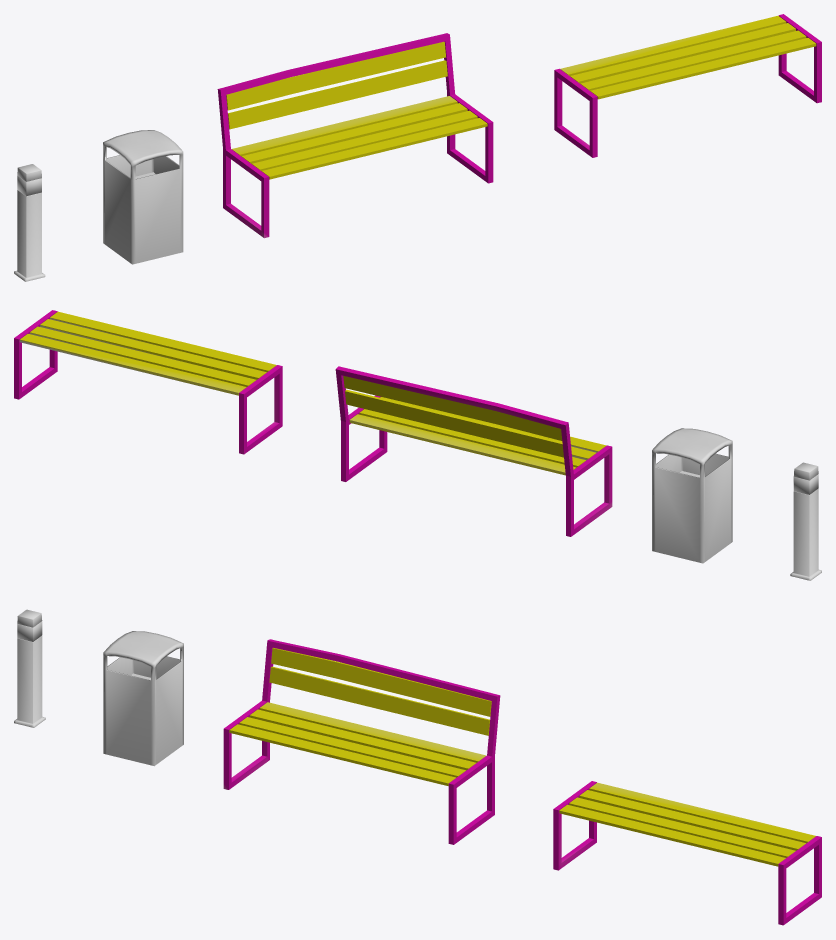
The model's file is props_ext.fbx.
The picture shows the model from 3 angles, top to bottom: view 1: azimuth 30°, elevation 25°; view 2: azimuth 150°, elevation 25°; view 3: azimuth 330°, elevation 25°; orthographic projection.
Visible parts, largest first — view 1: bench_1, trash, bench_2, bench_1_feets, bench_2_feets, lamp_ext; view 2: bench_1, trash, bench_2, bench_1_feets, bench_2_feets, lamp_ext; view 3: bench_1, trash, bench_2, bench_1_feets, bench_2_feets, lamp_ext.
Boxes of the visible parts, left/top/right/bottom form: bench_1: left=226, top=41, right=487, bottom=179; trash: left=103, top=130, right=183, bottom=264; bench_2: left=560, top=16, right=816, bottom=99; bench_1_feets: left=217, top=33, right=493, bottom=238; bench_2_feets: left=554, top=14, right=821, bottom=157; lamp_ext: left=14, top=164, right=45, bottom=281; bench_1: left=343, top=376, right=606, bottom=475; trash: left=652, top=428, right=732, bottom=563; bench_2: left=19, top=311, right=276, bottom=395; bench_1_feets: left=335, top=366, right=612, bottom=536; bench_2_feets: left=14, top=310, right=282, bottom=454; lamp_ext: left=790, top=462, right=821, bottom=580; bench_1: left=229, top=648, right=491, bottom=785; trash: left=103, top=631, right=183, bottom=766; bench_2: left=559, top=782, right=815, bottom=866; bench_1_feets: left=223, top=639, right=500, bottom=844; bench_2_feets: left=553, top=781, right=821, bottom=925; lamp_ext: left=14, top=609, right=45, bottom=727.
Size of the model in its own units: 614 by 88.49 by 63.09.
